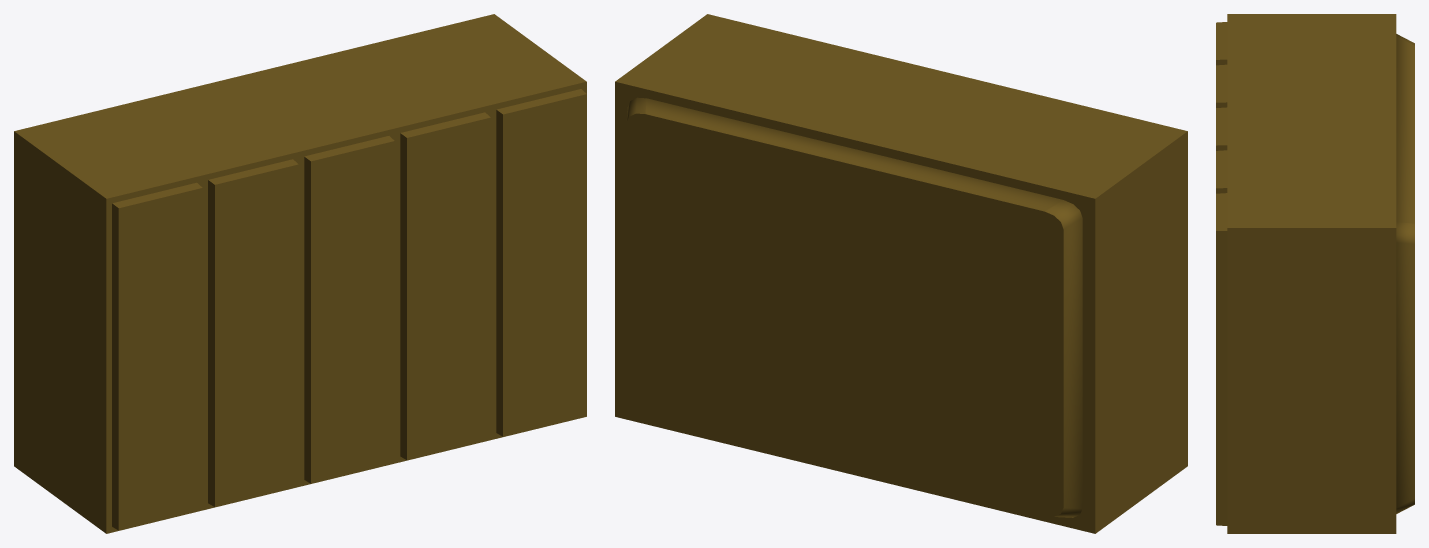
File: Wall6x_01.fbx
The picture shows the model from 3 angles, left to right: view 1: azimuth 30°, elevation 25°; view 2: azimuth 150°, elevation 25°; view 3: azimuth 270°, elevation 25°; orthographic projection. The views are drawn at different scales.
Parts seen in each view (by area): view 1: Wall6x_01; view 2: Wall6x_01; view 3: Wall6x_01.
Part boxes in pixels (<box>): Wall6x_01: <box>14,14,586,533</box>; Wall6x_01: <box>615,14,1187,533</box>; Wall6x_01: <box>1216,14,1414,533</box>.
Bounding box in the file's own units: 600 × 400 × 235.
